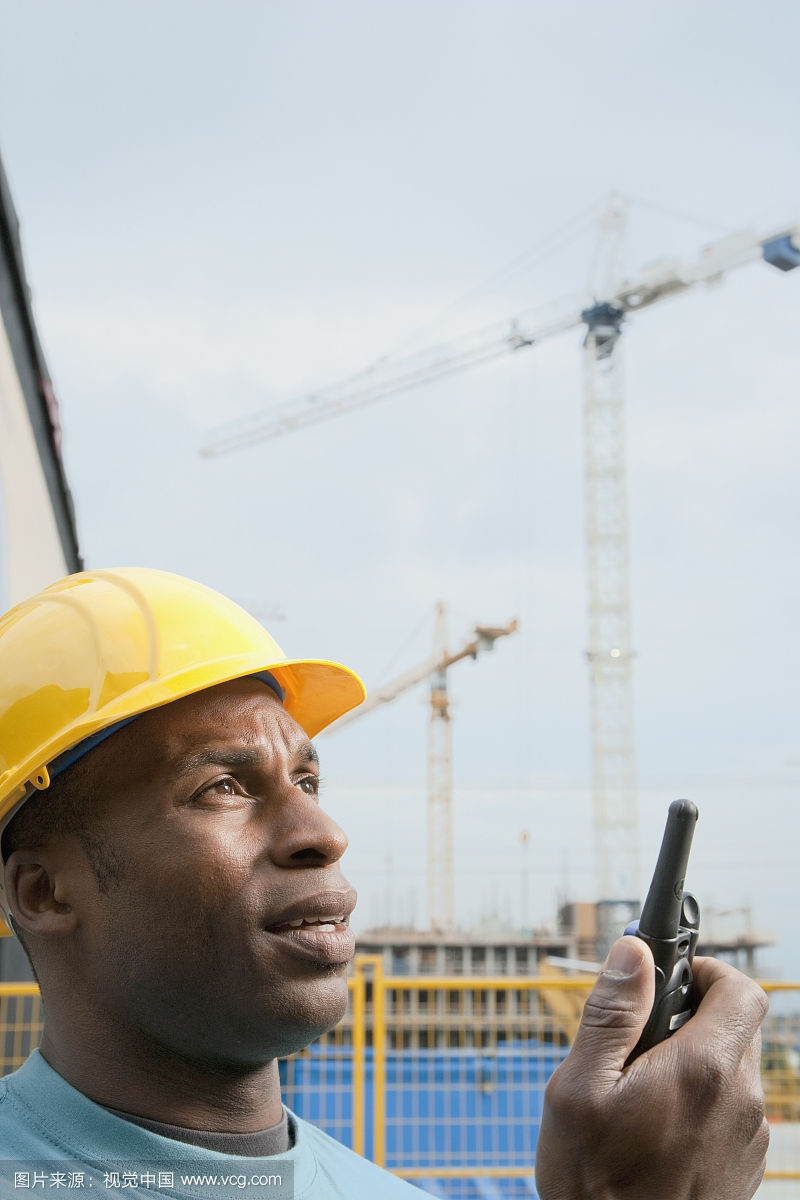yellow: (2, 561, 376, 1069)
